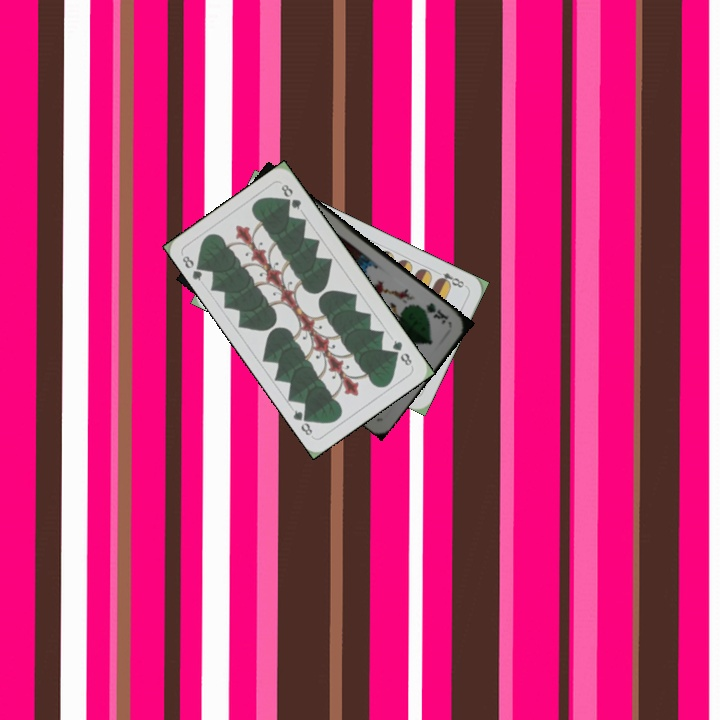E8: (431, 266, 469, 291)
G8: (178, 251, 208, 284), (388, 336, 415, 368)
GK: (415, 298, 451, 327)
